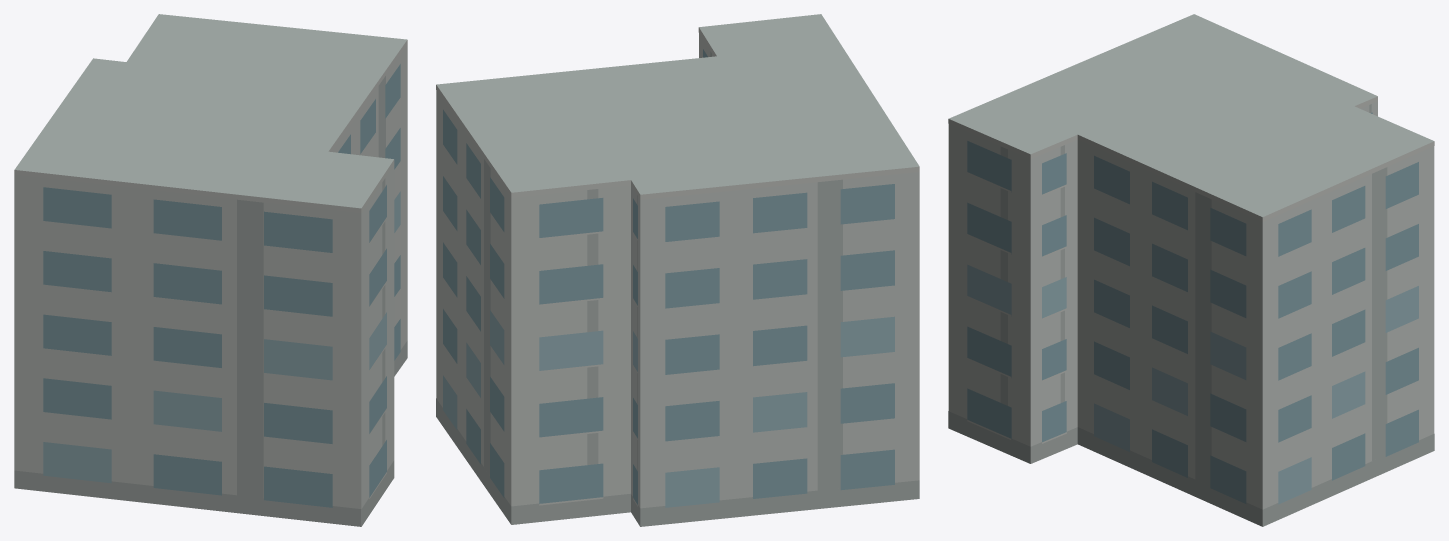
The model's file is survey-upis-32686252.glb.
3 renders of one model, left to right at view 1: azimuth 30°, elevation 25°; view 2: azimuth 150°, elevation 25°; view 3: azimuth 270°, elevation 25°, orthographic. The views are drawn at different scales.
Visible parts, largest first — view 1: survey-upis-32686252.tmp; view 2: survey-upis-32686252.tmp; view 3: survey-upis-32686252.tmp.
Part boxes in pixels (<box>): survey-upis-32686252.tmp: <box>14,14,407,526</box>; survey-upis-32686252.tmp: <box>436,14,919,526</box>; survey-upis-32686252.tmp: <box>948,14,1434,526</box>.
Size of the model in its own units: 21.47 by 15.25 by 21.7.
